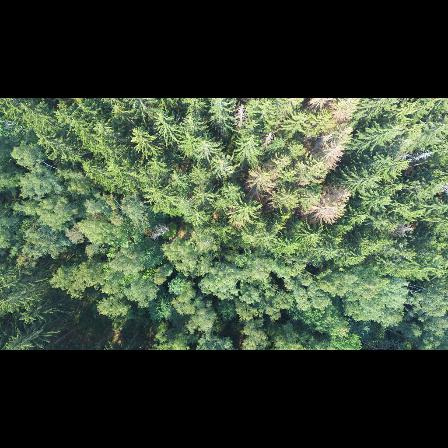Dead: (310, 186, 353, 224), (312, 132, 344, 174), (149, 225, 170, 240)
